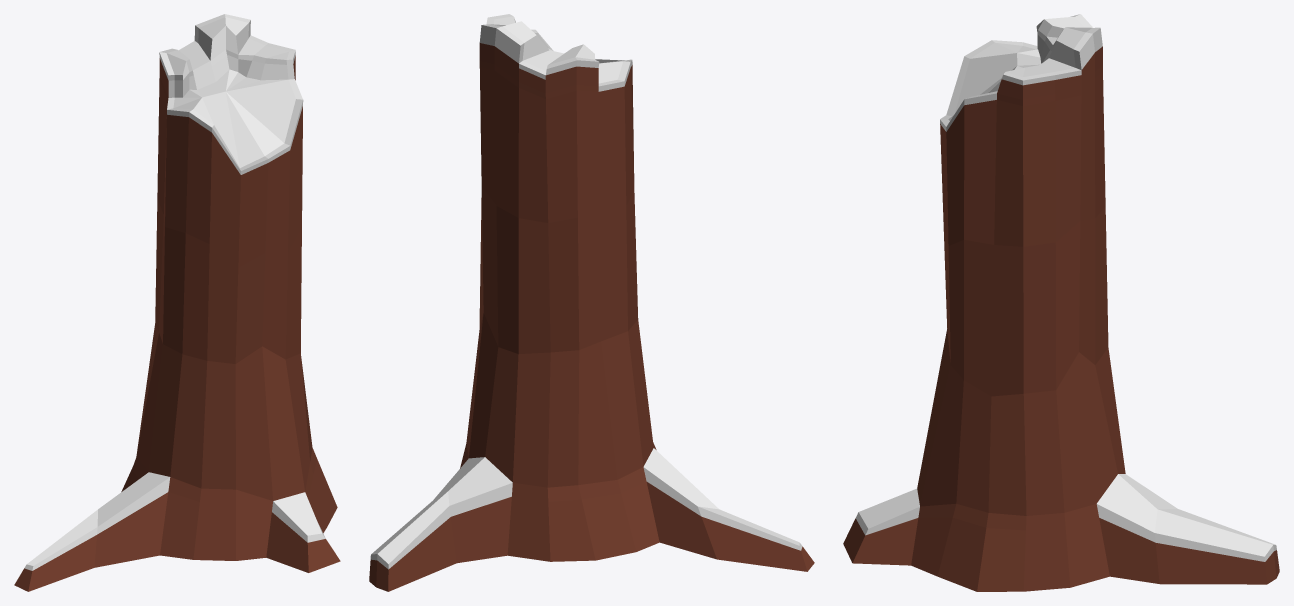
Rendered from pine_trunk_type_8_extra_LOD0.fbx.
3 renders of one model, left to right at view 1: azimuth 30°, elevation 25°; view 2: azimuth 150°, elevation 25°; view 3: azimuth 270°, elevation 25°, orthographic. The views are drawn at different scales.
Visible parts, largest first — view 1: pt_type_8.001; view 2: pt_type_8.001; view 3: pt_type_8.001.
Boxes of the visible parts, <box> form: pt_type_8.001: <box>14,14,340,591</box>; pt_type_8.001: <box>369,14,814,591</box>; pt_type_8.001: <box>843,14,1279,591</box>.
Bounding box in the file's own units: 264 × 388 × 287.
